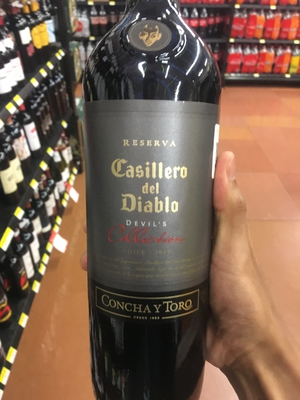casillero del diablo devils collection rojo: (79, 6, 224, 395)
